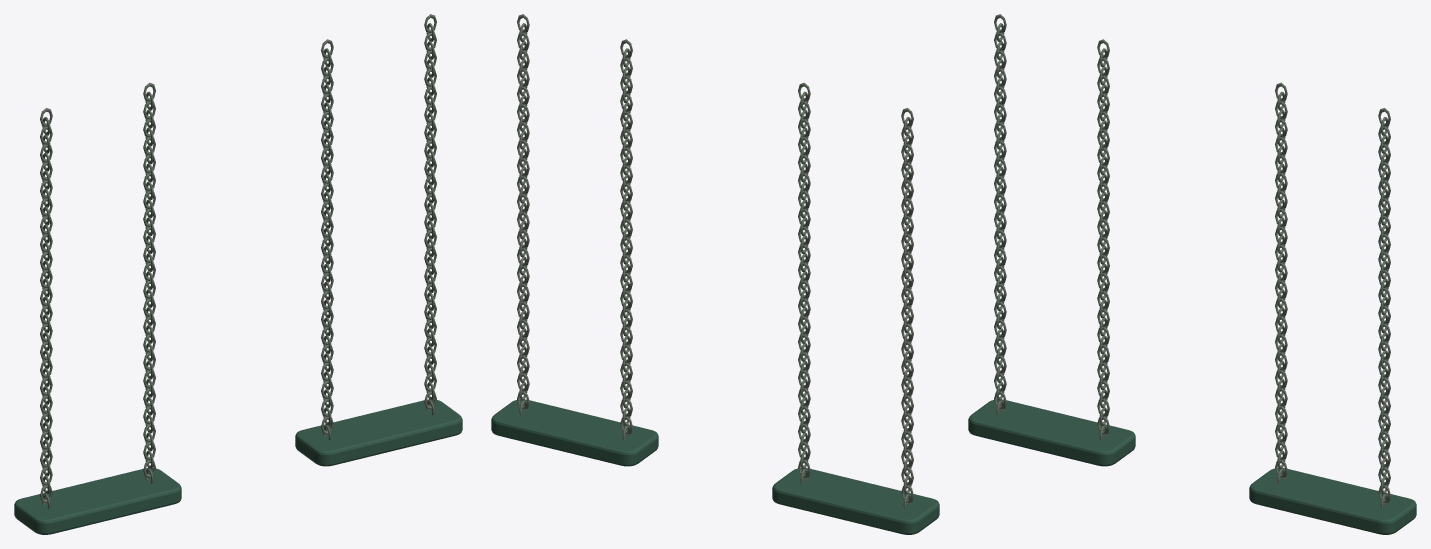
File: sunrise-meadow-swings.glb
3 views of the same model, side by side, from view 1: azimuth 30°, elevation 25°; view 2: azimuth 150°, elevation 25°; view 3: azimuth 330°, elevation 25° (orthographic).
Visible parts, largest first — view 1: Carrier (×2), Pivot1, Pivot0; view 2: Carrier (×2), Pivot1, Pivot0; view 3: Carrier (×2), Pivot0, Pivot1.
Boxes of the visible parts, box(x1,y1,x2,y2) form: Carrier (×2): box(14, 399, 462, 534); Pivot1: box(321, 14, 436, 440); Pivot0: box(40, 82, 155, 508); Carrier (×2): box(491, 399, 939, 534); Pivot1: box(517, 14, 632, 440); Pivot0: box(798, 82, 913, 508); Carrier (×2): box(968, 399, 1416, 534); Pivot0: box(994, 14, 1109, 440); Pivot1: box(1275, 82, 1390, 508).
Size of the model in its own units: 2.98 by 2.76 by 0.376.
